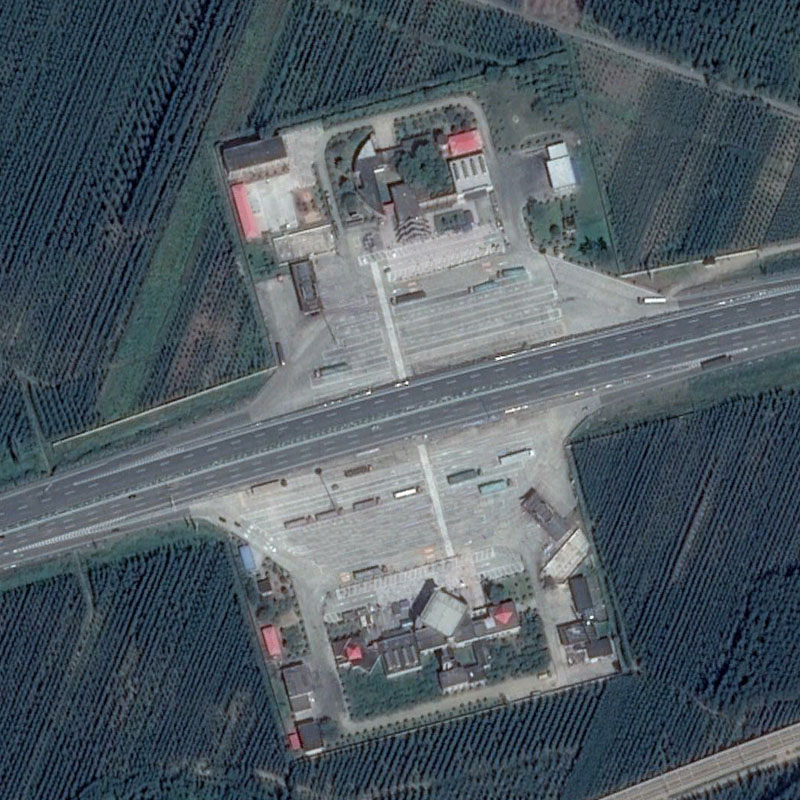Expressway-Service-area: (214, 52, 678, 428), (183, 396, 634, 765)
vehicle: (478, 479, 513, 496), (499, 449, 534, 465), (448, 469, 483, 485), (390, 291, 427, 306), (314, 364, 351, 379), (251, 479, 287, 494), (354, 565, 388, 579), (701, 356, 734, 370), (316, 507, 345, 521), (353, 497, 382, 510), (393, 487, 422, 500), (345, 465, 373, 478), (285, 516, 313, 529), (469, 280, 495, 293), (497, 267, 525, 278), (276, 344, 286, 366), (637, 297, 667, 304)
